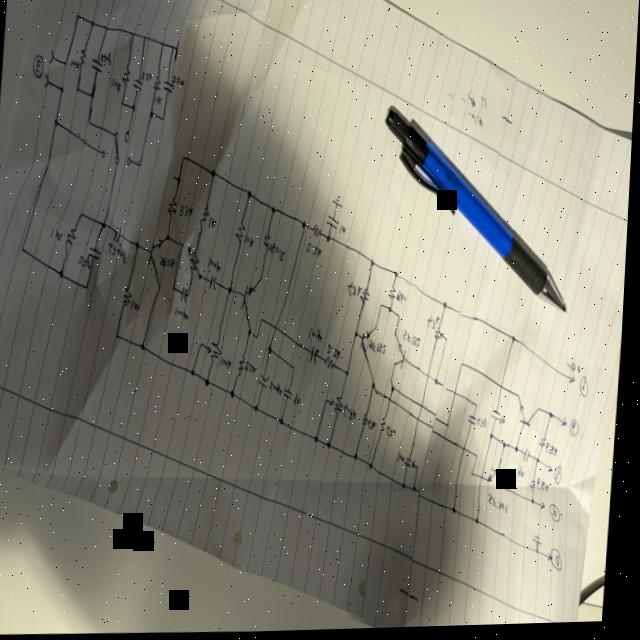capacitor: (310, 346, 321, 368), (88, 246, 103, 261), (493, 411, 506, 426), (326, 216, 339, 231), (114, 225, 124, 244), (260, 375, 272, 389), (132, 77, 143, 91), (162, 81, 172, 96), (91, 59, 102, 72), (210, 276, 219, 291), (286, 390, 297, 402), (182, 287, 189, 305), (470, 418, 480, 428), (526, 451, 533, 465)
crossover: (275, 324, 280, 334), (455, 390, 460, 400), (501, 385, 507, 393), (419, 418, 424, 426), (429, 374, 433, 382), (423, 404, 427, 412), (391, 398, 395, 405), (465, 448, 469, 454), (484, 477, 487, 483)
ground: (173, 39, 182, 61), (332, 197, 344, 210), (536, 536, 547, 548)
junction: (371, 463, 378, 473), (302, 222, 308, 232), (256, 405, 262, 415), (281, 418, 287, 428), (53, 118, 59, 128), (371, 260, 377, 270), (271, 206, 277, 216), (142, 342, 148, 352), (269, 345, 275, 355), (539, 458, 545, 468), (166, 233, 172, 243), (325, 237, 332, 245), (538, 550, 545, 558), (136, 240, 141, 251), (192, 369, 198, 378), (329, 442, 335, 451), (513, 337, 519, 346), (79, 210, 85, 219), (86, 117, 92, 126), (88, 19, 94, 28), (211, 169, 216, 179), (247, 191, 252, 201), (60, 270, 65, 280), (102, 220, 107, 230), (373, 384, 378, 394), (357, 453, 362, 463), (181, 241, 186, 251), (89, 91, 95, 99), (415, 487, 421, 495), (232, 391, 237, 400), (207, 379, 212, 388), (444, 303, 449, 312), (534, 500, 539, 509), (517, 448, 522, 457), (317, 436, 322, 445), (448, 424, 453, 433), (59, 85, 64, 94), (21, 244, 26, 253), (347, 371, 352, 380), (169, 44, 174, 53), (159, 39, 165, 46), (395, 272, 400, 280), (551, 414, 556, 422), (148, 110, 153, 118), (436, 380, 441, 388), (137, 161, 142, 169), (229, 287, 234, 295), (116, 332, 121, 340), (129, 30, 134, 38), (74, 86, 79, 94), (62, 59, 67, 67), (406, 484, 410, 493), (477, 404, 481, 413), (256, 334, 261, 341), (446, 339, 451, 346), (390, 308, 394, 316), (479, 519, 483, 527), (506, 443, 510, 451), (393, 386, 397, 394), (456, 509, 460, 517), (356, 332, 360, 340), (131, 105, 135, 113), (86, 283, 90, 291), (173, 285, 177, 293), (492, 435, 496, 443), (74, 12, 78, 20), (462, 363, 466, 371), (103, 24, 107, 32), (294, 365, 298, 373), (249, 330, 253, 338), (201, 341, 205, 349), (262, 318, 266, 326), (380, 305, 385, 311), (161, 116, 165, 123), (141, 35, 145, 42), (120, 100, 124, 107), (399, 314, 403, 321), (182, 156, 186, 163), (478, 455, 482, 461), (327, 399, 331, 405), (474, 473, 477, 480), (419, 466, 422, 472), (188, 294, 191, 299)
resistor: (187, 246, 205, 282), (207, 341, 224, 366), (331, 396, 346, 419), (65, 227, 78, 251), (199, 205, 210, 233), (235, 222, 247, 244), (123, 287, 134, 309), (361, 286, 372, 307), (239, 356, 248, 379), (167, 199, 178, 217), (381, 417, 390, 439), (326, 357, 339, 372), (407, 457, 420, 471), (436, 329, 447, 344), (121, 67, 130, 85), (542, 436, 551, 454), (312, 227, 323, 241), (364, 414, 371, 435), (78, 48, 86, 66), (264, 235, 272, 253), (153, 75, 160, 93), (390, 288, 398, 303), (533, 479, 539, 495)
switch: (100, 129, 135, 169)
terminal: (563, 419, 572, 431), (42, 75, 49, 89), (47, 51, 53, 67), (571, 378, 578, 388), (550, 555, 557, 565), (544, 505, 550, 513), (552, 468, 556, 476)
text: (490, 495, 513, 518), (108, 242, 130, 264), (404, 330, 424, 351), (269, 243, 287, 263), (31, 53, 43, 79), (345, 403, 360, 423), (306, 243, 324, 259), (371, 342, 389, 357), (329, 344, 344, 362), (271, 381, 286, 399), (557, 550, 568, 574), (160, 255, 177, 270), (176, 307, 191, 324), (51, 226, 65, 244), (581, 379, 592, 401), (553, 506, 565, 526), (78, 254, 93, 270), (311, 328, 325, 345), (541, 479, 553, 497), (430, 315, 442, 333), (170, 74, 185, 88), (547, 445, 562, 459), (245, 361, 259, 376), (210, 258, 223, 274), (180, 205, 194, 219), (573, 421, 583, 440), (349, 285, 362, 299), (569, 365, 584, 377), (557, 468, 566, 488), (110, 77, 121, 93), (222, 357, 235, 370), (99, 52, 111, 66), (131, 299, 143, 313), (68, 57, 80, 70), (245, 235, 255, 250), (397, 293, 408, 306), (479, 418, 490, 431), (140, 70, 151, 83), (296, 393, 305, 408), (371, 419, 380, 432), (390, 427, 399, 439), (340, 225, 348, 237), (209, 218, 217, 230), (521, 468, 528, 481), (401, 453, 408, 466), (502, 416, 509, 428), (155, 94, 161, 106)
transistor: (147, 237, 169, 291), (519, 396, 543, 431), (361, 325, 380, 362), (394, 332, 411, 372), (242, 284, 257, 322), (491, 469, 510, 492)
